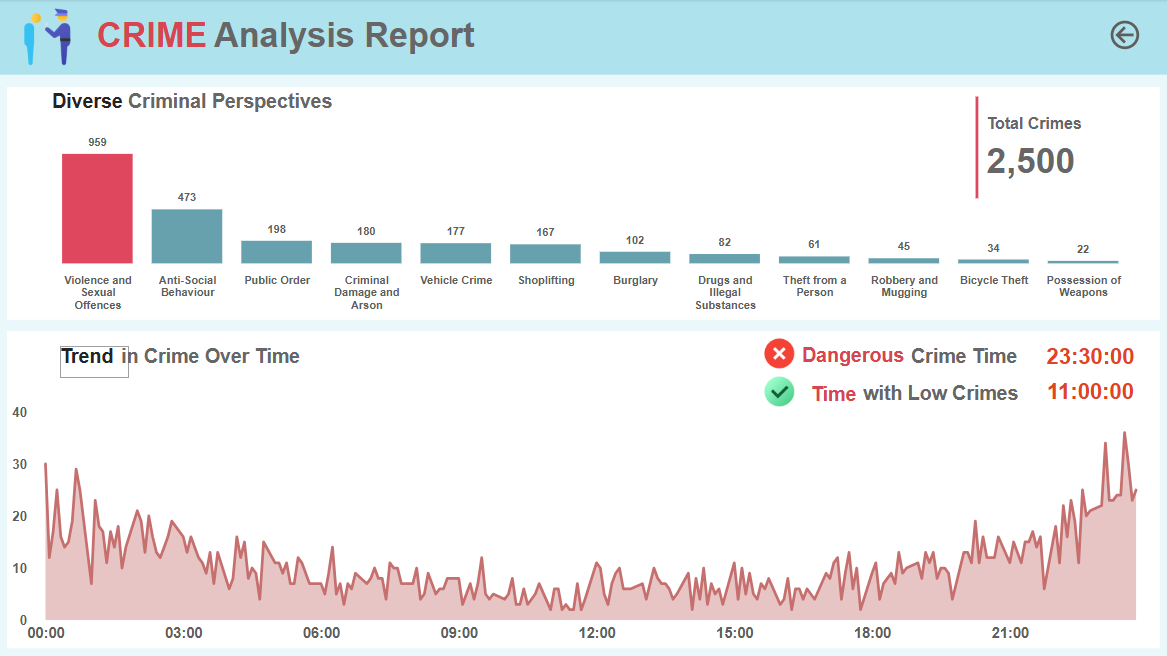

This screenshot's page, from the dashboard's own definition file:
{"tool":"powerbi","page":{"name":"Details","canvas":[1280,720],"ordinal":1},"visuals":[{"type":"shape","box":[10.3,95.5,1258.1,254.2],"z":0},{"type":"shape","box":[0,0,1530.3,82.6],"z":1000},{"type":"actionButton","box":[1209,18.1,59.4,41.3],"z":2000},{"type":"areaChart","fields":{"Category":["Data.Crime Time"],"Y":["Measures Table.Total Crimes"]},"box":[10.3,436.1,1258.1,272.3],"z":3000},{"type":"actionButton","title":"CRIME","box":[108.4,18.1,139.4,46.5],"z":4000},{"type":"actionButton","title":"Analysis Report","box":[236.1,18.1,285.2,46.5],"z":5000},{"type":"image","box":[0,0,108.4,82.6],"z":6000},{"type":"shape","box":[9.8,362.3,1258.2,74.2],"z":7000},{"type":"actionButton","title":"Trend","box":[67.7,378.7,75.3,34.9],"z":8000},{"type":"actionButton","title":"in Crime Over Time","box":[134.2,378.7,284.8,34.9],"z":9000},{"type":"actionButton","title":"Dangerous","box":[877.3,377.6,115.7,27.3],"z":10000},{"type":"actionButton","title":" Crime Time","box":[996.3,378.7,130.9,26.2],"z":11000},{"type":"actionButton","title":"Time","box":[887.2,420.1,54.6,27.3],"z":12000},{"type":"actionButton","title":"with Low Crimes ","box":[943.9,419,175.7,28.4],"z":13000},{"type":"card","fields":{"Values":["Min(Data.Crime Time)"]},"box":[1116.3,378.7,151.7,32.7],"z":14000},{"type":"card","fields":{"Values":["Min(Data.Crime Time)"]},"box":[1116.3,419,151.7,28.4],"z":15000},{"type":"image","box":[827.1,362.3,50.2,49.1],"z":16000},{"type":"image","box":[827.1,403.8,50.2,49.1],"z":17000},{"type":"columnChart","fields":{"Category":["Crime Types.Crime"],"Y":["Measures Table.Total Crimes"]},"box":[10.3,135.5,1258.1,214.2],"z":18000},{"type":"actionButton","title":"Diverse","box":[59.4,100.6,82.6,34.8],"z":18001},{"type":"actionButton","title":"Criminal Perspectives","box":[141.9,100.6,283.9,34.8],"z":18002},{"type":"cardVisual","fields":{"Data":["Measures Table.Total Crimes"]},"box":[1061.9,101.9,192.3,121.3],"z":18003}]}

Visuals, with their boxes in screenshot pixels (x1, y1, x2, y2), scaled from the page's 1280x720 canvas onto the 1167x656 screenshot:
shape: x1=9, y1=87, x2=1156, y2=319
shape: x1=0, y1=0, x2=1166, y2=75
actionButton: x1=1102, y1=16, x2=1156, y2=54
areaChart - Data.Crime Time x Measures Table.Total Crimes: x1=9, y1=397, x2=1156, y2=645
"CRIME" actionButton: x1=99, y1=16, x2=226, y2=59
"Analysis Report" actionButton: x1=215, y1=16, x2=475, y2=59
image: x1=0, y1=0, x2=99, y2=75
shape: x1=9, y1=330, x2=1156, y2=398
"Trend" actionButton: x1=62, y1=345, x2=130, y2=377
"in Crime Over Time" actionButton: x1=122, y1=345, x2=382, y2=377
"Dangerous" actionButton: x1=800, y1=344, x2=905, y2=369
" Crime Time" actionButton: x1=908, y1=345, x2=1028, y2=369
"Time" actionButton: x1=809, y1=383, x2=859, y2=408
"with Low Crimes " actionButton: x1=861, y1=382, x2=1021, y2=408
card - Min(Data.Crime Time): x1=1018, y1=345, x2=1156, y2=375
card - Min(Data.Crime Time): x1=1018, y1=382, x2=1156, y2=408
image: x1=754, y1=330, x2=800, y2=375
image: x1=754, y1=368, x2=800, y2=413
columnChart - Crime Types.Crime x Measures Table.Total Crimes: x1=9, y1=123, x2=1156, y2=319
"Diverse" actionButton: x1=54, y1=92, x2=129, y2=123
"Criminal Perspectives" actionButton: x1=129, y1=92, x2=388, y2=123
cardVisual - Measures Table.Total Crimes: x1=968, y1=93, x2=1143, y2=203
